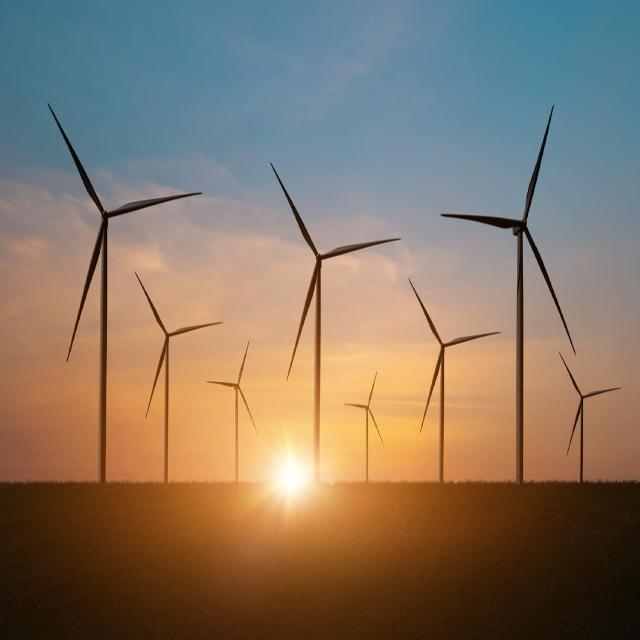solid-blade: (49, 105, 102, 214), (68, 220, 104, 359), (271, 163, 318, 255), (286, 262, 317, 378), (321, 240, 399, 260)
wind-turbine: (48, 105, 200, 484), (445, 109, 575, 485), (272, 163, 399, 480), (409, 280, 499, 482), (137, 274, 221, 482), (559, 352, 621, 482), (208, 341, 258, 482), (344, 375, 381, 480)
